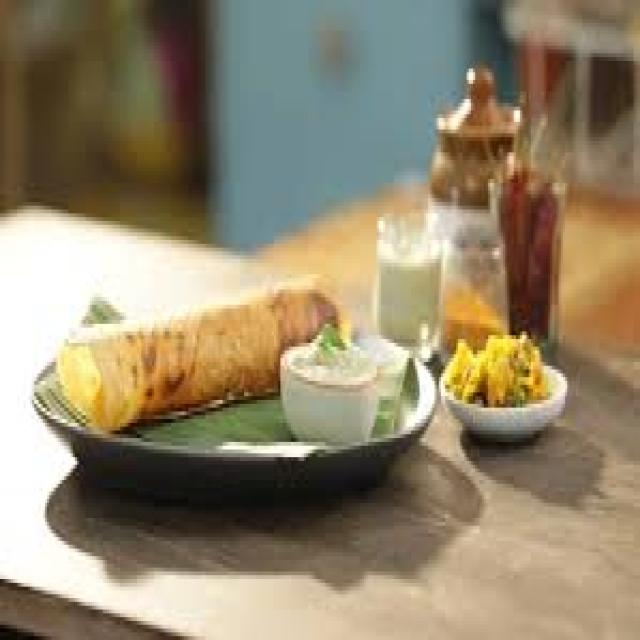DOSA: (55, 270, 347, 439)
